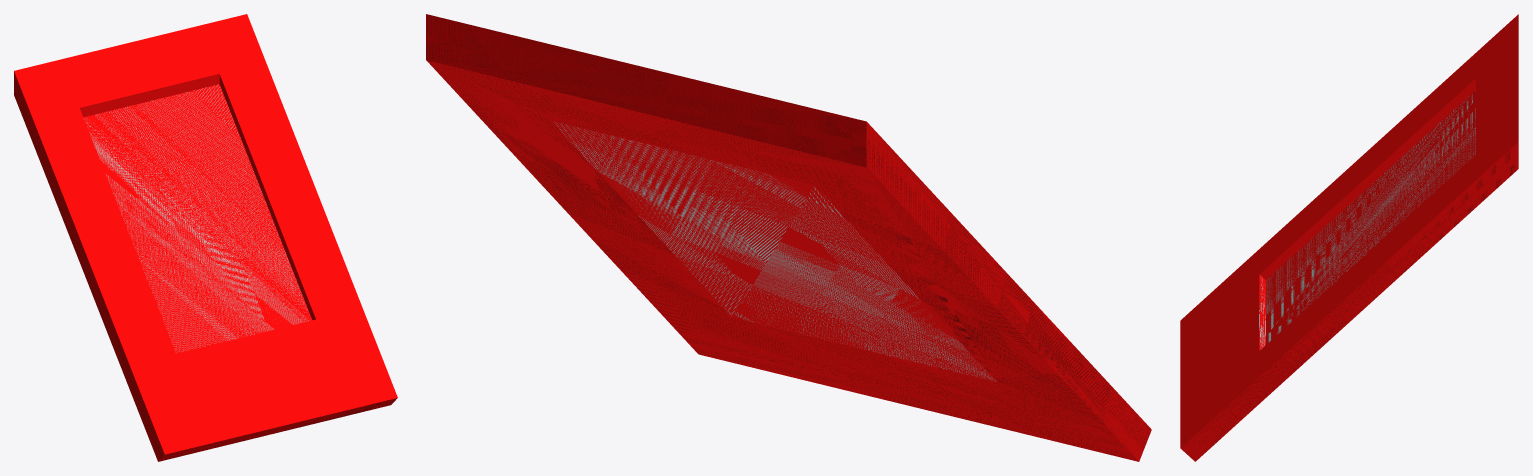
File: roof_skylight_1.fbx
The picture shows the model from 3 angles, left to right: view 1: azimuth 30°, elevation 25°; view 2: azimuth 150°, elevation 25°; view 3: azimuth 270°, elevation 25°; orthographic projection. The views are drawn at different scales.
Visible parts, largest first — view 1: Mesh1_sloped_roof1 Model; view 2: Mesh1_sloped_roof1 Model; view 3: Mesh1_sloped_roof1 Model.
Boxes of the visible parts, x1,y1,x2,y2 form: Mesh1_sloped_roof1 Model: [14, 14, 397, 461]; Mesh1_sloped_roof1 Model: [426, 14, 1151, 461]; Mesh1_sloped_roof1 Model: [1180, 14, 1518, 461].
Bounding box in the file's own units: 1 × 1.17 × 1.12.
